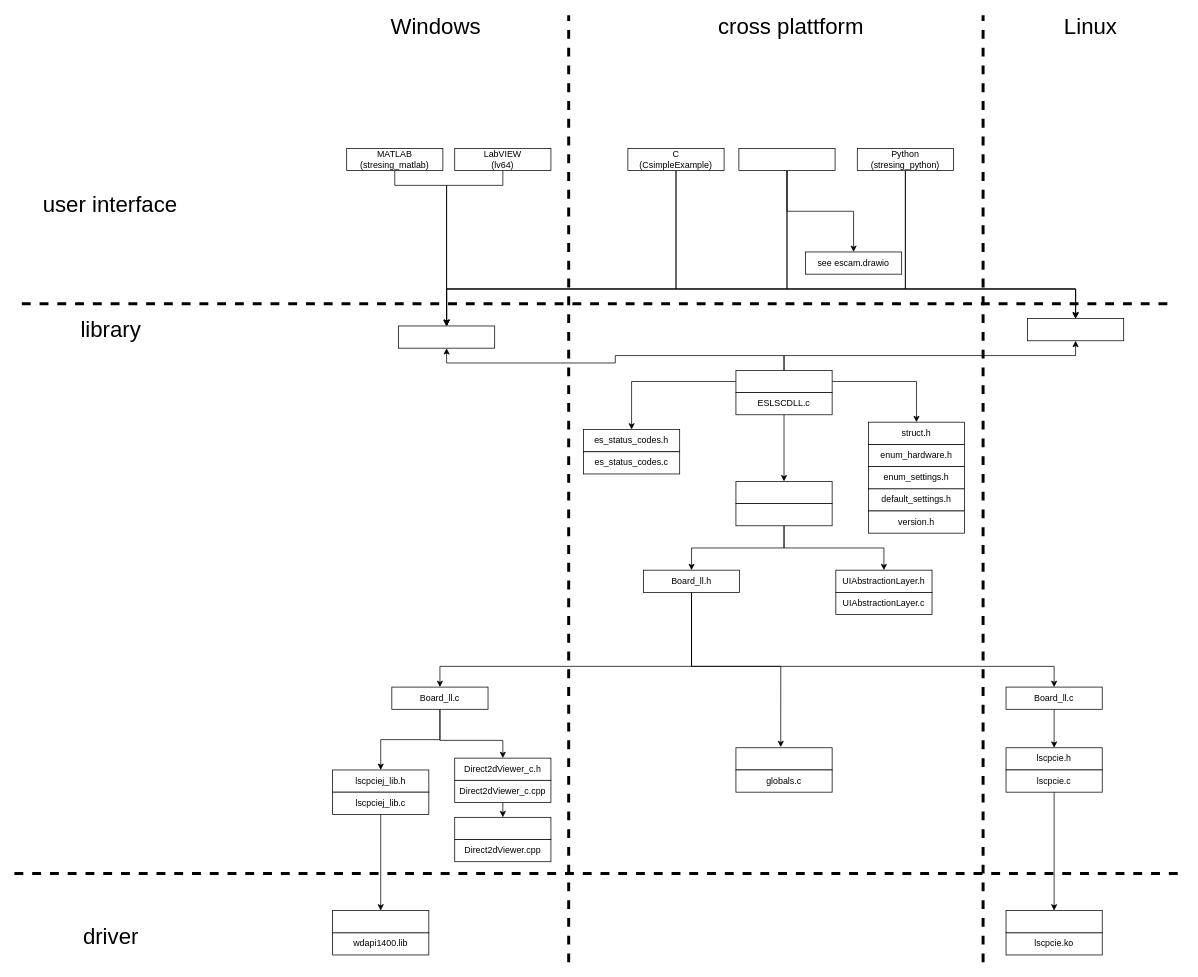
Some shapes in this 1198 by 977 pixel diagram are drawn without their labels. Here are the shapes that lost their labels. From the top down, the box of each, then its label:
(738, 148, 835, 171): C++ / Qt GUI (escam)
(398, 325, 495, 348): ESLSCDLL.dll
(1027, 318, 1124, 341): libESLSCDLL.so
(735, 370, 832, 393): ESLSCDLL.h
(735, 481, 832, 504): Board.h
(735, 503, 832, 526): Board.c
(735, 747, 832, 770): globals.h
(454, 817, 551, 840): Direct2dViewer.h
(332, 910, 429, 933): Jungo WinDriver
(1005, 910, 1102, 933): Linux driver
